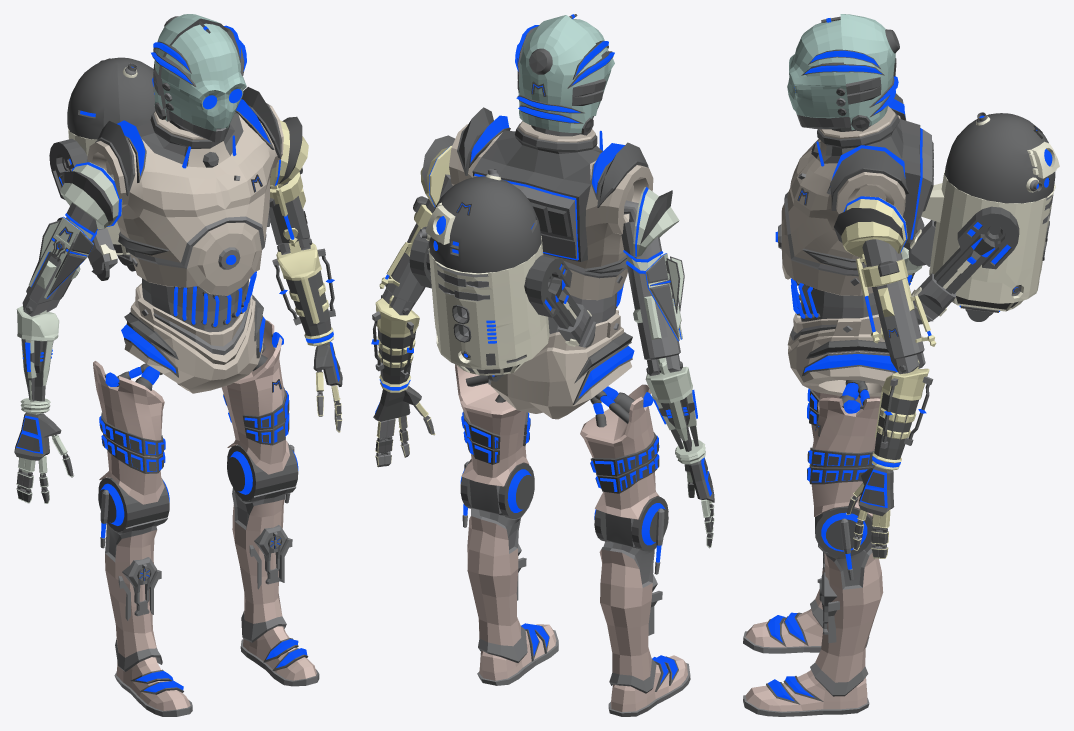
File: robot-INT0013-idle.fbx
The picture shows the model from 3 angles, left to right: view 1: azimuth 30°, elevation 25°; view 2: azimuth 150°, elevation 25°; view 3: azimuth 270°, elevation 25°; orthographic projection. The views are drawn at different scales.
Parts seen in each view (by area): view 1: INT13; view 2: INT13; view 3: INT13.
Boxes of the visible parts, x1,y1,x2,y2 form: INT13: (14, 14, 342, 716); INT13: (371, 14, 714, 716); INT13: (743, 14, 1059, 716).
Bounding box in the file's own units: 96.46 × 183 × 79.42.
Materials: 1 (1 with a texture image).
